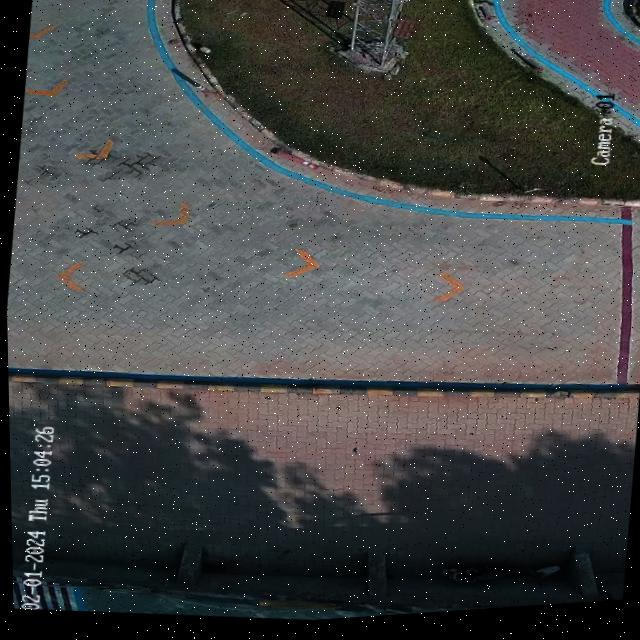No Car: (5, 0, 640, 624)
